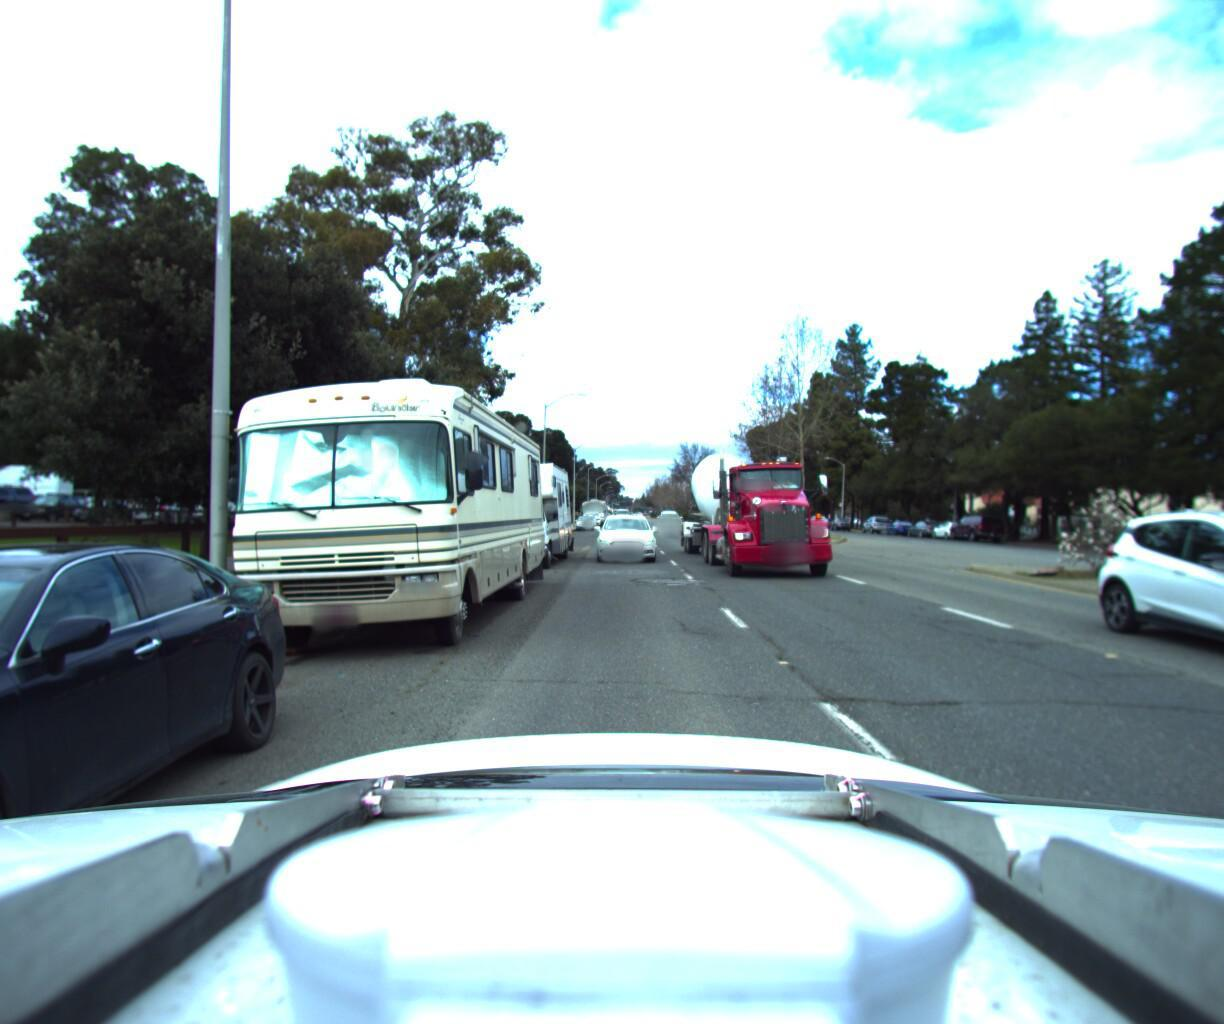car: (0, 523, 310, 1024), (1140, 496, 1224, 722), (590, 507, 657, 561), (946, 507, 1008, 537), (928, 513, 970, 533), (904, 513, 946, 532), (653, 505, 683, 530), (859, 508, 892, 528), (883, 513, 917, 530), (575, 508, 594, 524)
other_vehicle: (206, 333, 547, 675), (453, 449, 572, 571)
truck: (686, 396, 859, 586)
